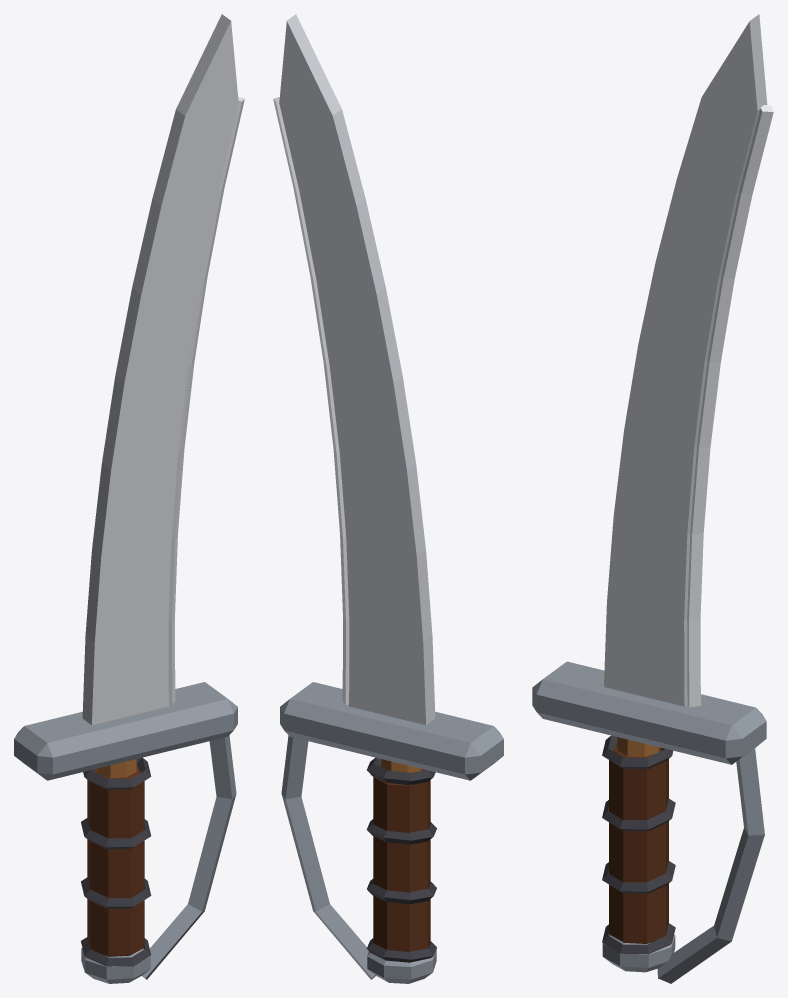
The model's file is IronCutlass.fbx.
3 renders of one model, left to right at view 1: azimuth 30°, elevation 25°; view 2: azimuth 150°, elevation 25°; view 3: azimuth 330°, elevation 25°, orthographic. The views are drawn at different scales.
Parts seen in each view (by area): view 1: IronCutlass; view 2: IronCutlass; view 3: IronCutlass.
Boxes of the visible parts, left/top/right/bottom form: IronCutlass: left=14, top=14, right=244, bottom=983; IronCutlass: left=273, top=14, right=503, bottom=983; IronCutlass: left=532, top=14, right=773, bottom=983.
Size of the model in its own units: 1.09 by 4.49 by 0.3129.
1 material, 1 textured.
